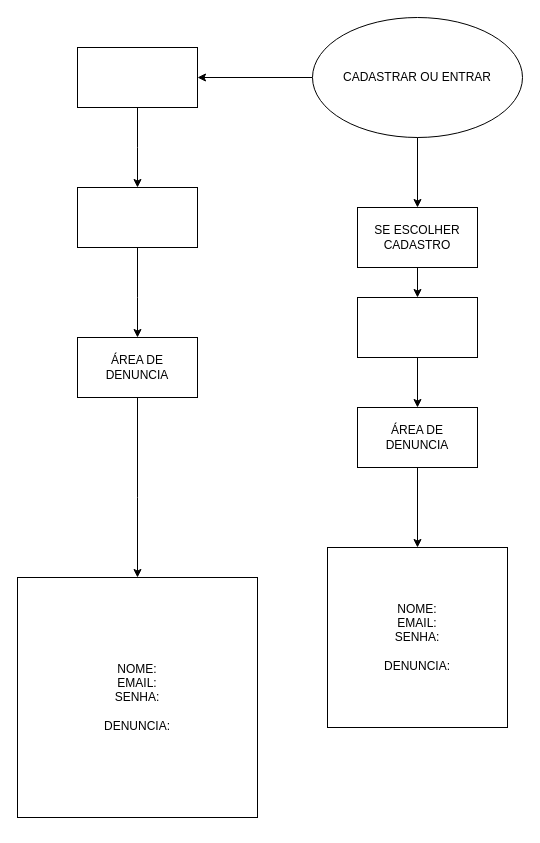
Some shapes in this 540 by 843 pixel diagram are drawn without their labels. The centre of each missing label's shape, as x and y in pixels:
"EMAIL: SENHA:" belongs at point (137, 217).
"NOME: EMAIL: SENHA:" belongs at point (417, 327).
"SE ENTRAR" belongs at point (137, 77).
